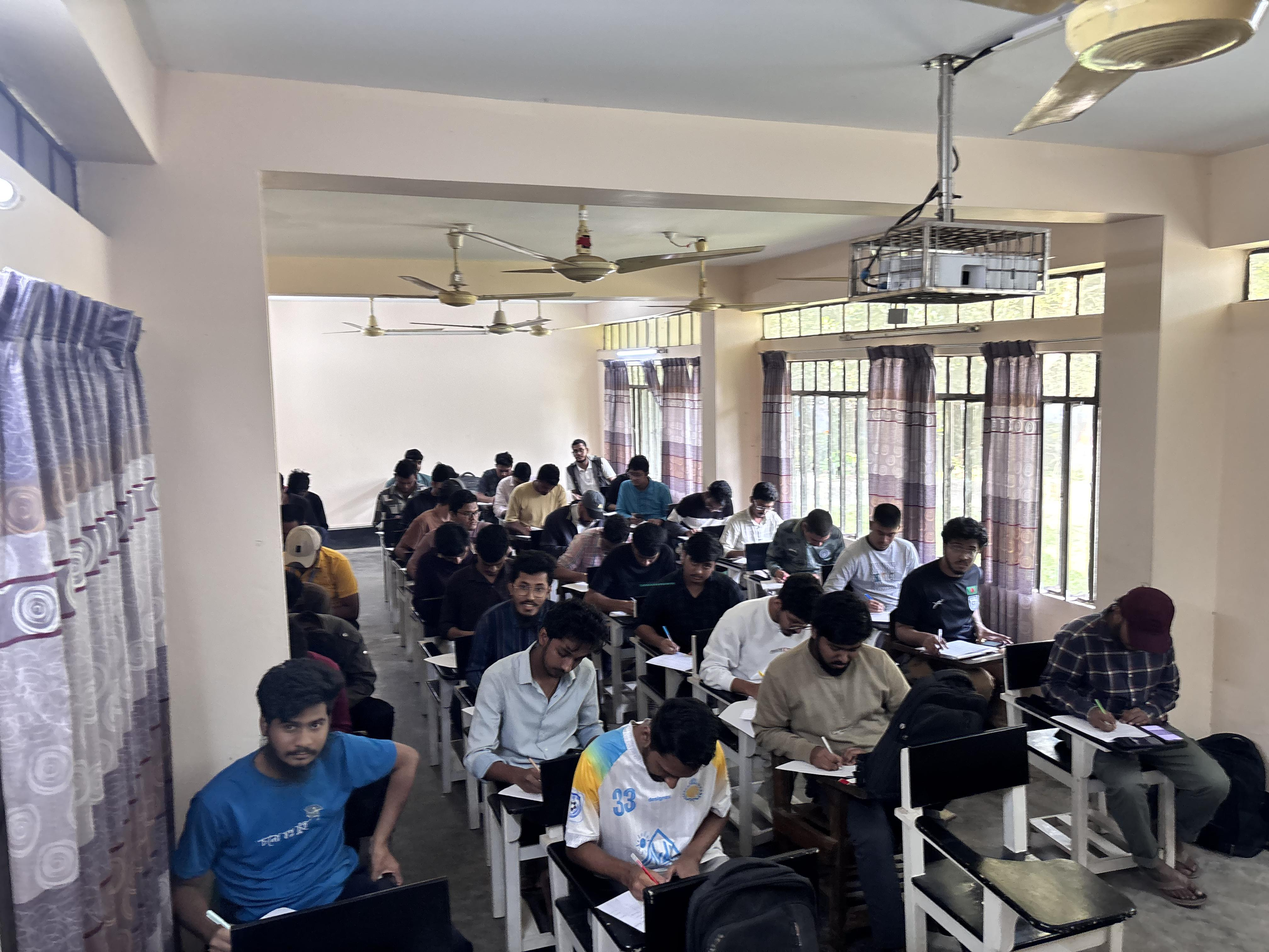copying: (612, 451, 671, 526), (433, 495, 502, 546)
no_cheating: (186, 683, 413, 952), (581, 694, 765, 942), (775, 594, 924, 800), (477, 627, 595, 783), (642, 535, 742, 658), (700, 588, 833, 665), (477, 552, 557, 650), (842, 503, 925, 588), (293, 527, 361, 604), (782, 508, 838, 584), (722, 484, 792, 540), (508, 462, 571, 524), (456, 531, 507, 598), (570, 511, 632, 564), (563, 439, 614, 501), (417, 533, 474, 587), (672, 479, 740, 523), (389, 456, 430, 506), (485, 450, 518, 476), (496, 465, 533, 485)
using_phone: (1050, 580, 1211, 824), (917, 525, 1018, 681)
